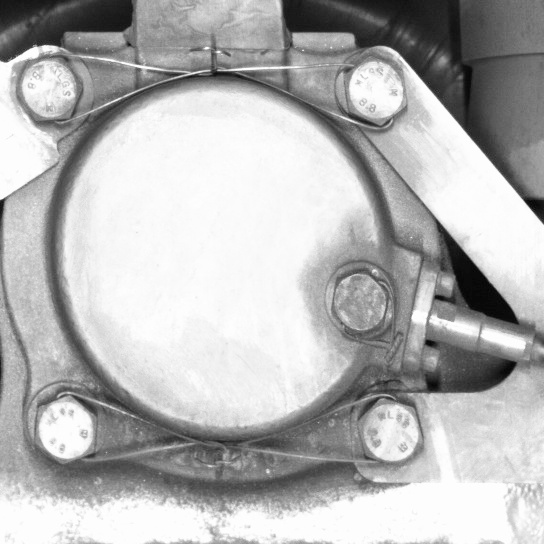IronWire: (10, 49, 416, 140), (22, 386, 431, 474)
Screw: (332, 42, 415, 138), (22, 385, 104, 473), (320, 257, 401, 344), (349, 393, 430, 471), (10, 51, 87, 133)
